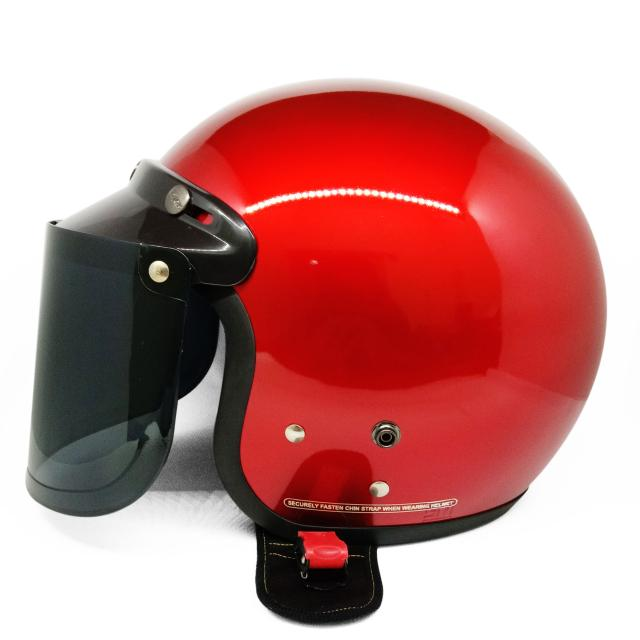Helm: (11, 48, 616, 634)
